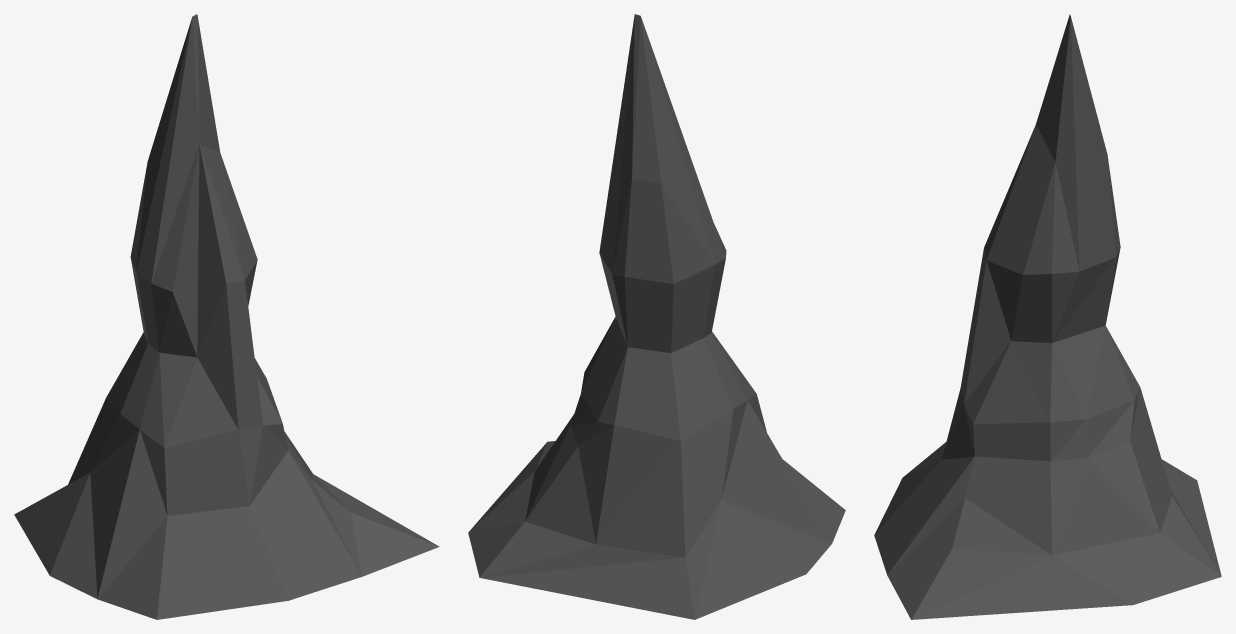
Rendered from stoun_9.fbx.
The picture shows the model from 3 angles, left to right: view 1: azimuth 30°, elevation 25°; view 2: azimuth 150°, elevation 25°; view 3: azimuth 270°, elevation 25°; orthographic projection. The views are drawn at different scales.
Visible parts, largest first — view 1: Object.010; view 2: Object.010; view 3: Object.010.
Boxes of the visible parts, left/top/right/bottom form: Object.010: left=14, top=14, right=439, bottom=619; Object.010: left=468, top=14, right=845, bottom=619; Object.010: left=874, top=14, right=1221, bottom=619.
Size of the model in its own units: 90.64 by 139 by 83.64.
